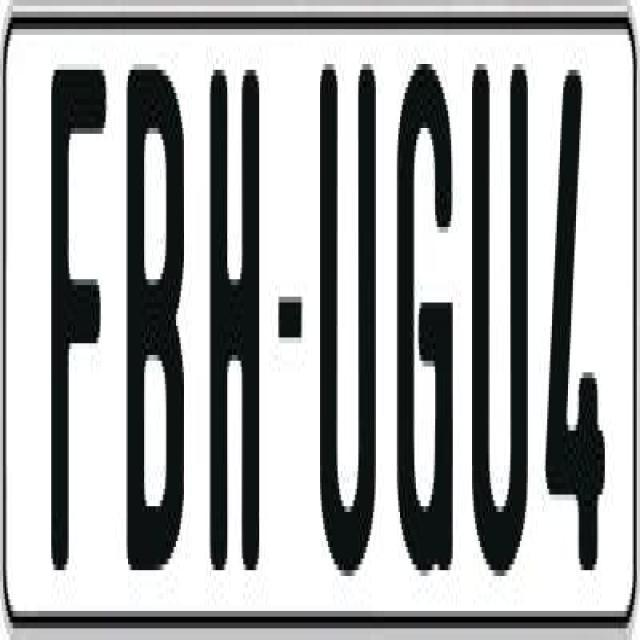4: (546, 52, 612, 582)
B: (126, 52, 194, 553)
F: (48, 63, 107, 600)
G: (397, 46, 458, 582)
H: (208, 64, 259, 576)
U: (320, 52, 379, 576), (467, 58, 525, 588)
